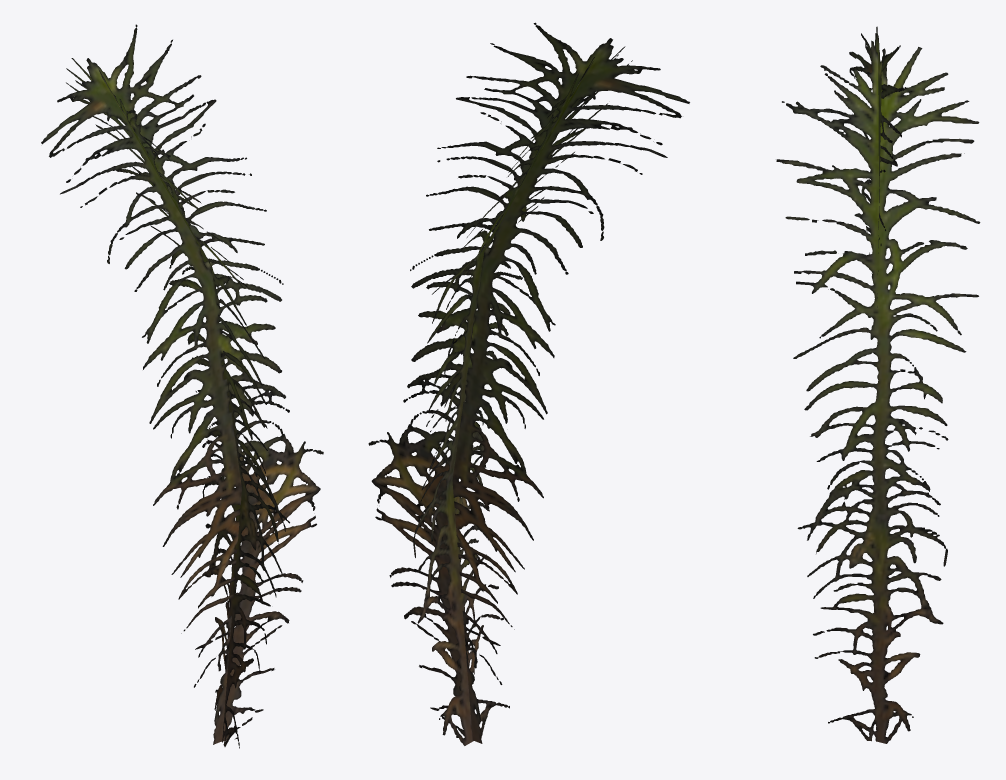
The model's file is Moss_12.fbx.
3 views of the same model, side by side, from view 1: azimuth 30°, elevation 25°; view 2: azimuth 150°, elevation 25°; view 3: azimuth 270°, elevation 25° (orthographic). The views are drawn at different scales.
Visible parts, largest first — view 1: Moss_12; view 2: Moss_12; view 3: Moss_12.
Boxes of the visible parts, x1=… form: Moss_12: x1=41, y1=24, x2=323, y2=748; Moss_12: x1=368, y1=22, x2=689, y2=745; Moss_12: x1=776, y1=26, x2=980, y2=743.
Bounding box in the file's own units: 0.038 × 0.08 × 0.0253.
1 material, 1 textured.
